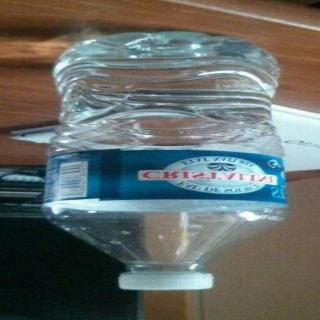Anorganik: (38, 27, 292, 293)
